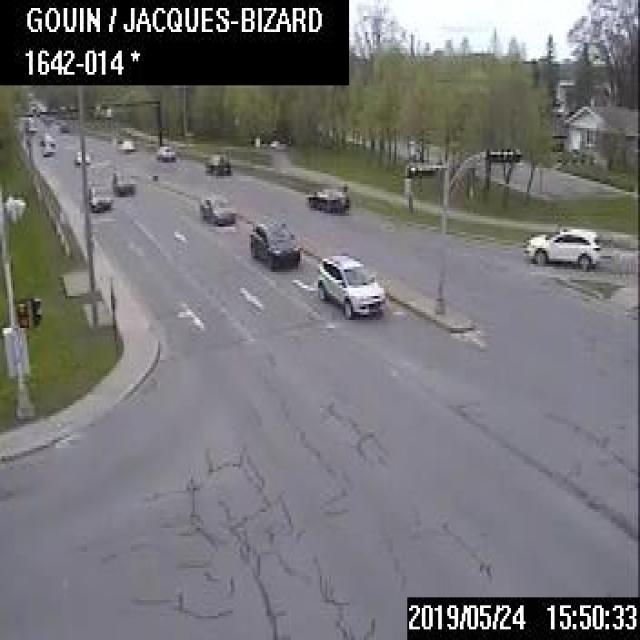vehicle: (316, 252, 383, 314), (524, 226, 600, 268), (248, 220, 298, 268), (305, 185, 348, 212), (199, 194, 233, 223), (88, 183, 110, 210), (111, 168, 133, 193), (203, 153, 230, 173), (38, 130, 55, 154), (155, 143, 173, 160), (72, 148, 89, 163), (116, 136, 132, 151)
